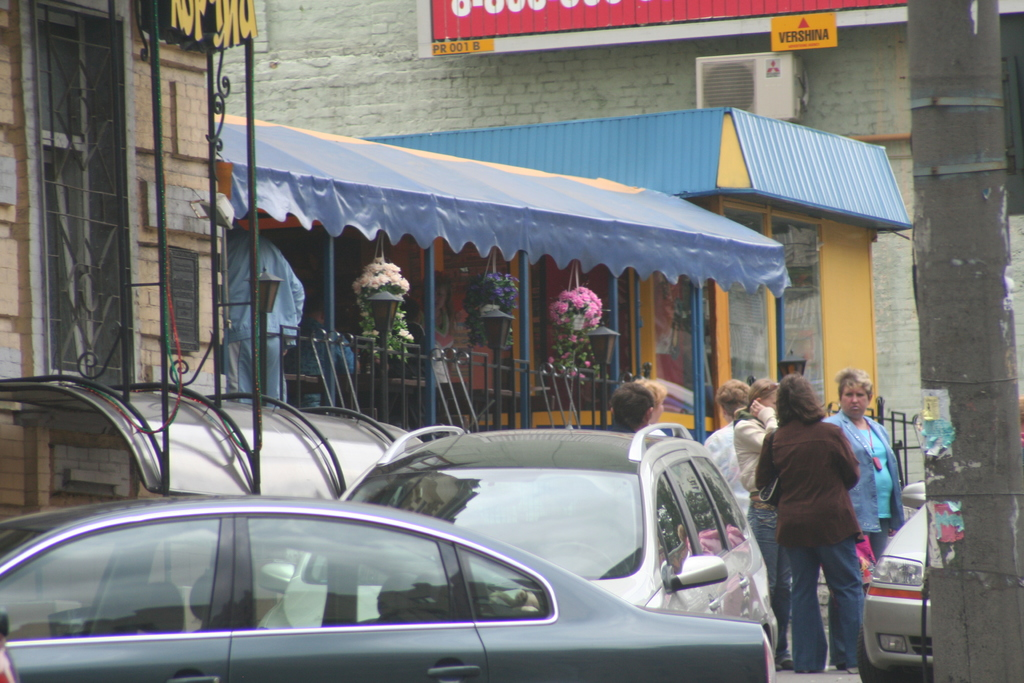Car: (0, 398, 933, 682)
